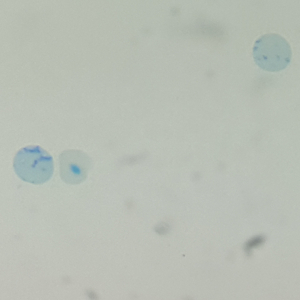aggregate reticulocyte: (11, 144, 56, 186), (251, 32, 293, 73)
erythrocyte: (56, 148, 93, 186)
